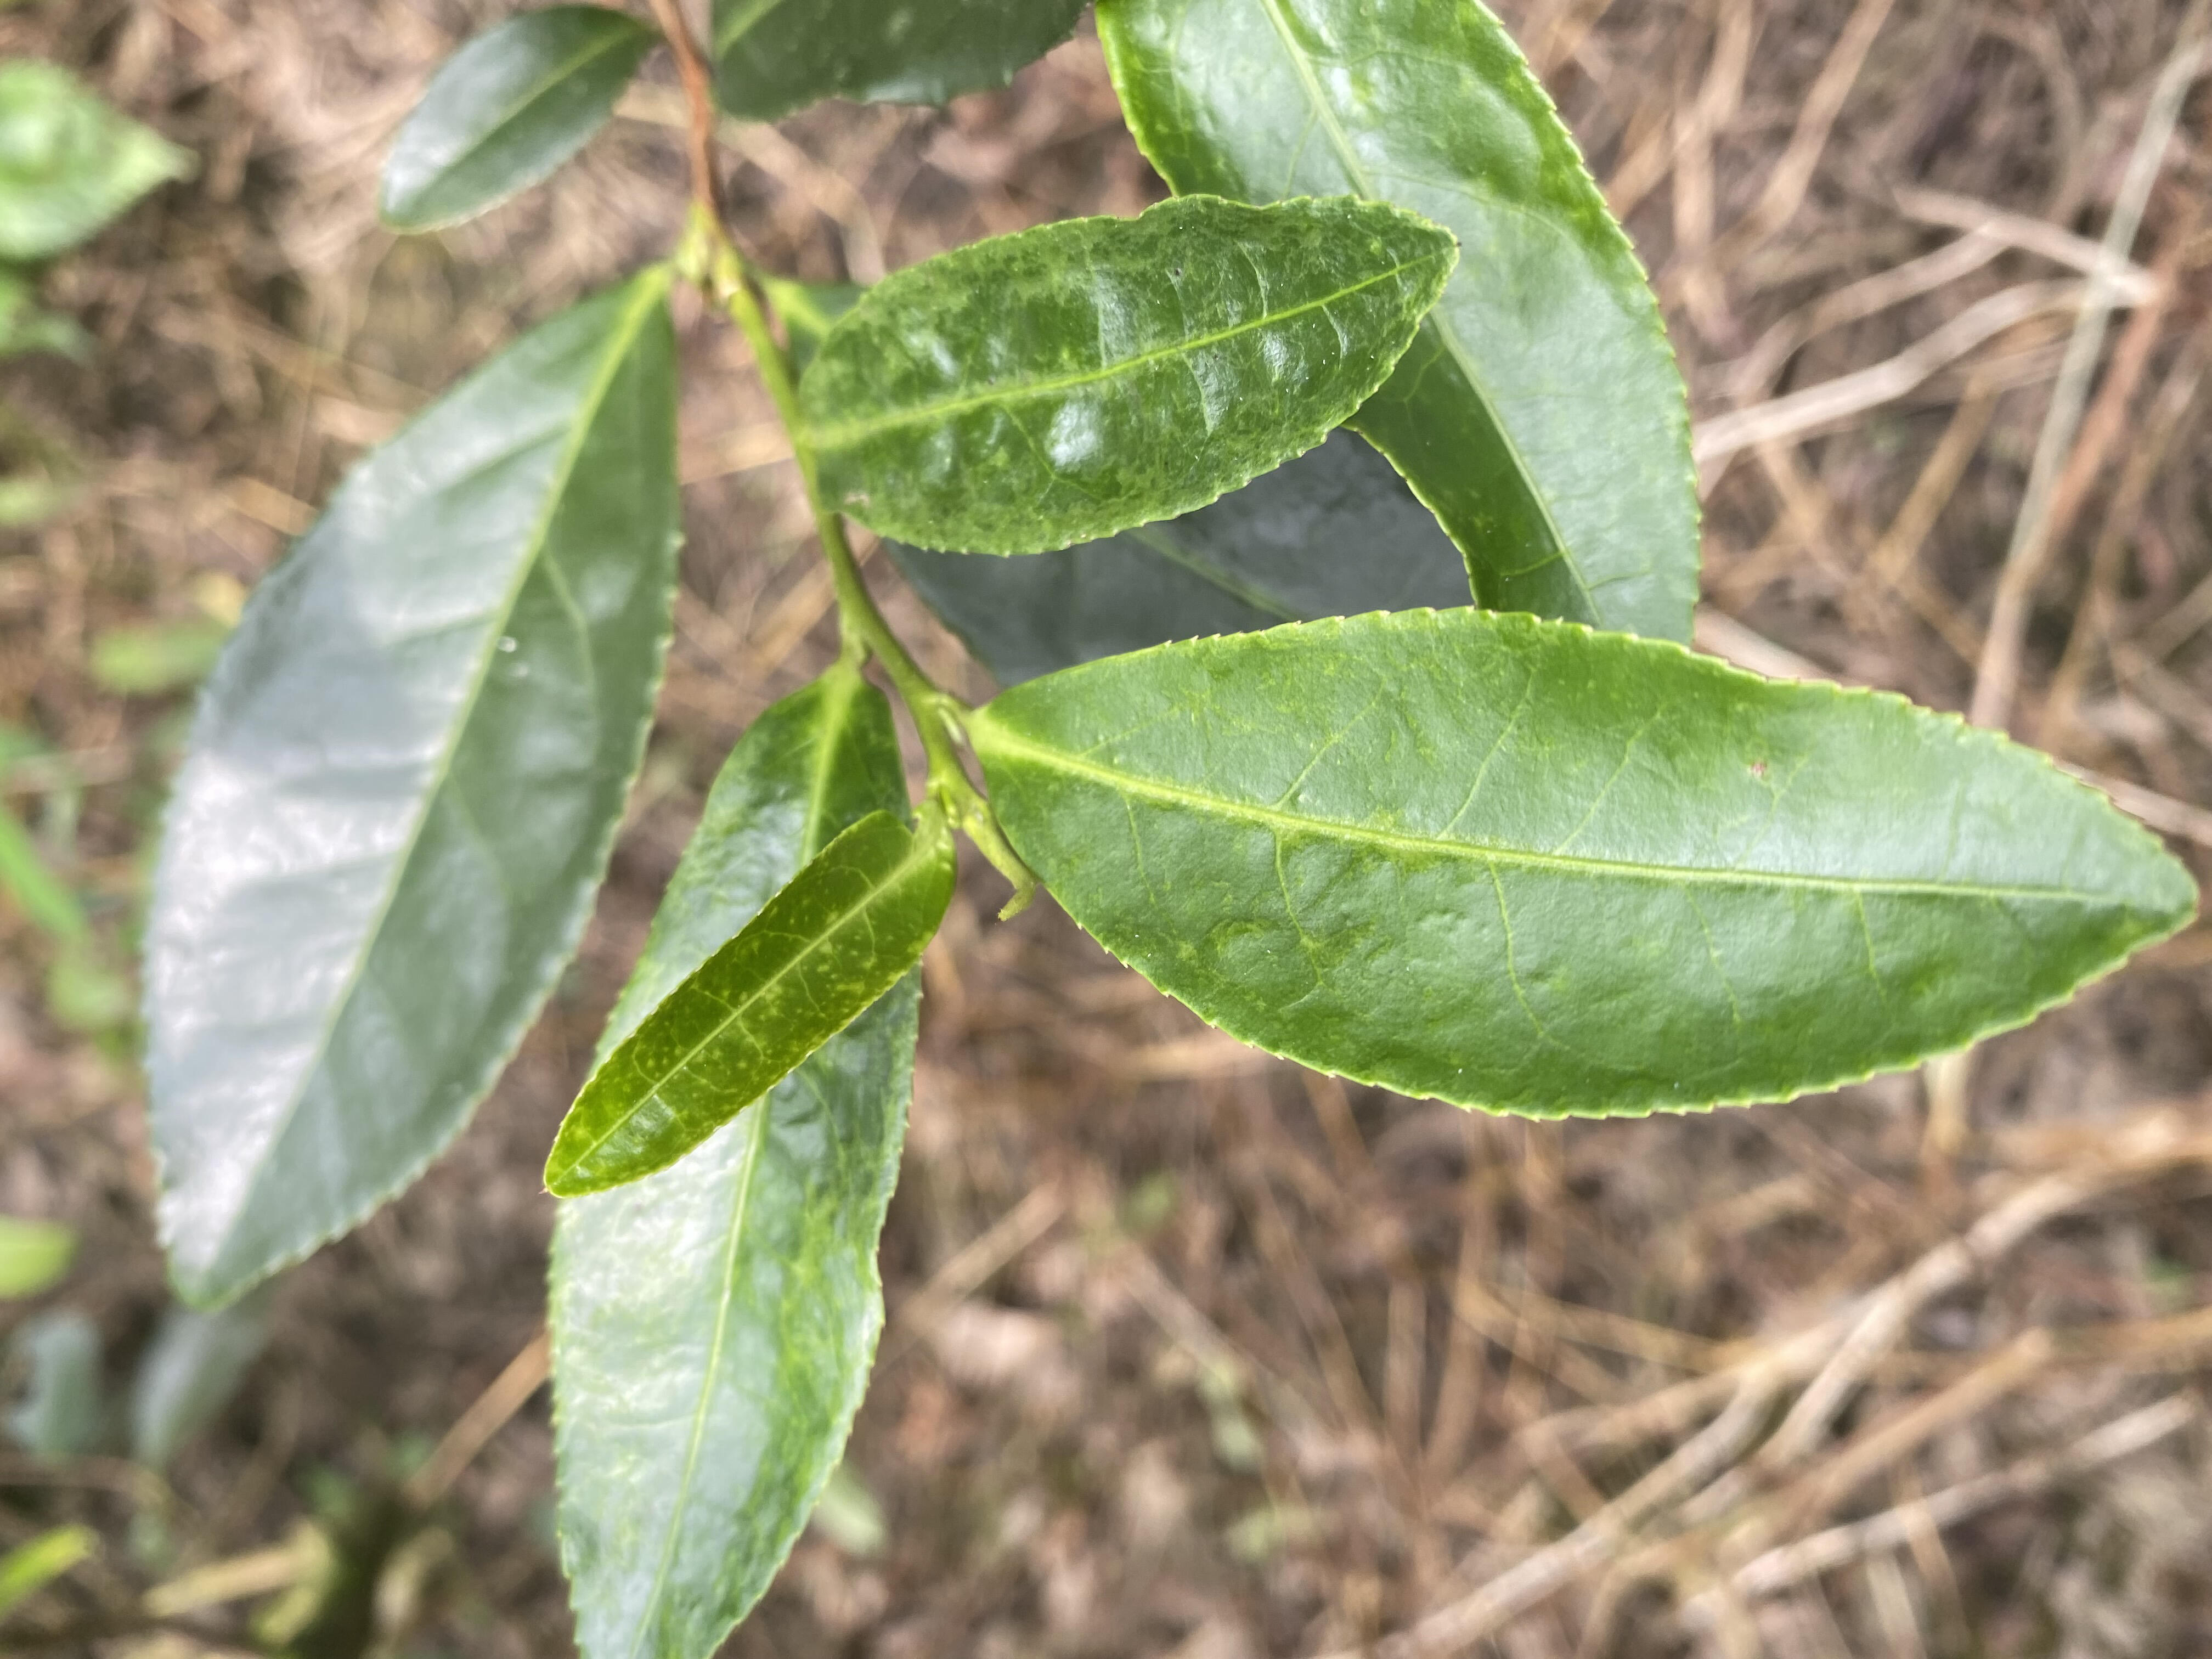healthy: (136, 267, 683, 1312), (1097, 3, 1700, 643), (543, 666, 925, 1657), (798, 195, 1460, 561), (545, 803, 948, 1199)
tanju_low: (965, 605, 2200, 1127)
